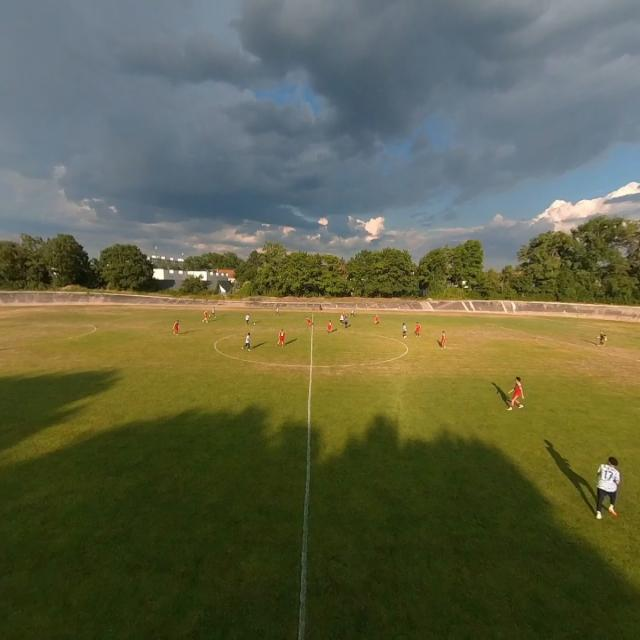ball: (253, 322, 256, 326)
